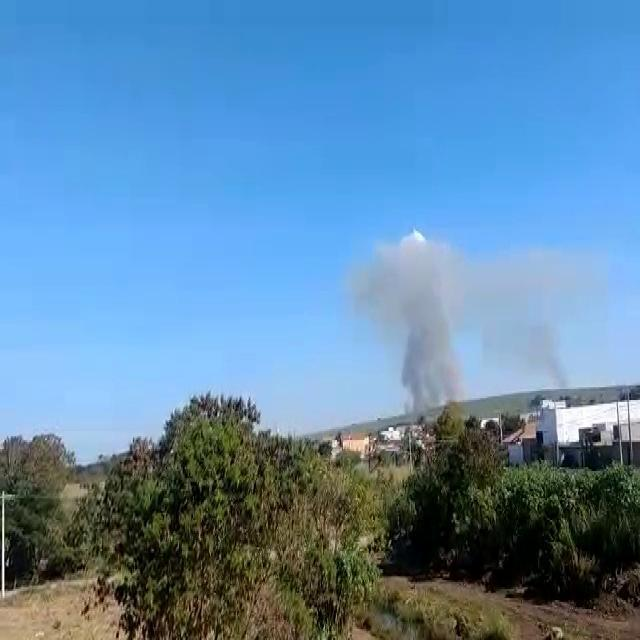Smoke: (354, 228, 482, 410)
